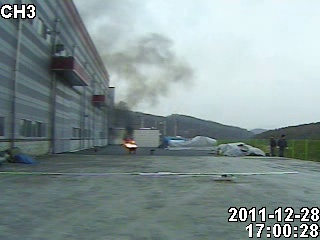fire: (122, 134, 139, 150)
smoke: (105, 58, 158, 129)
